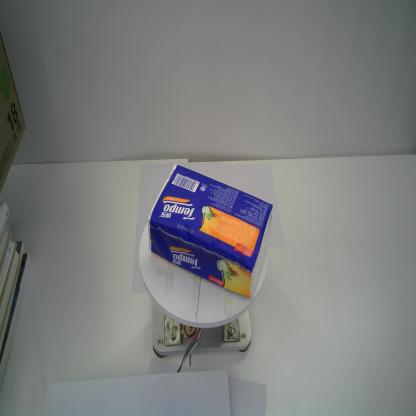Tissue: (143, 163, 274, 302)
